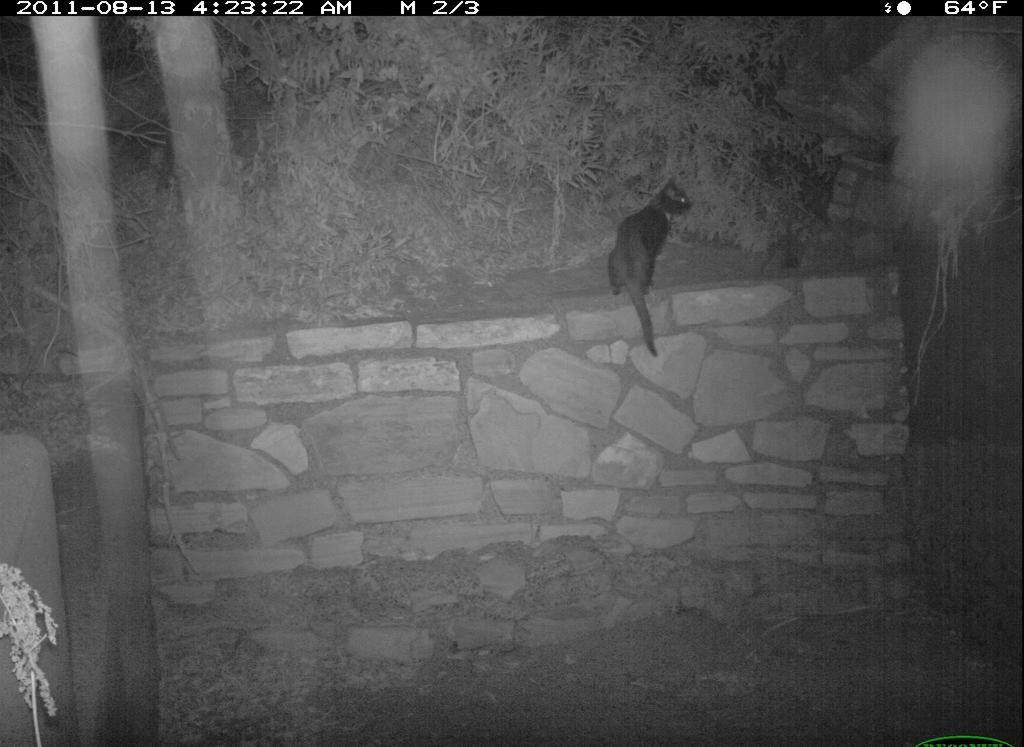cat: (601, 177, 705, 365)
